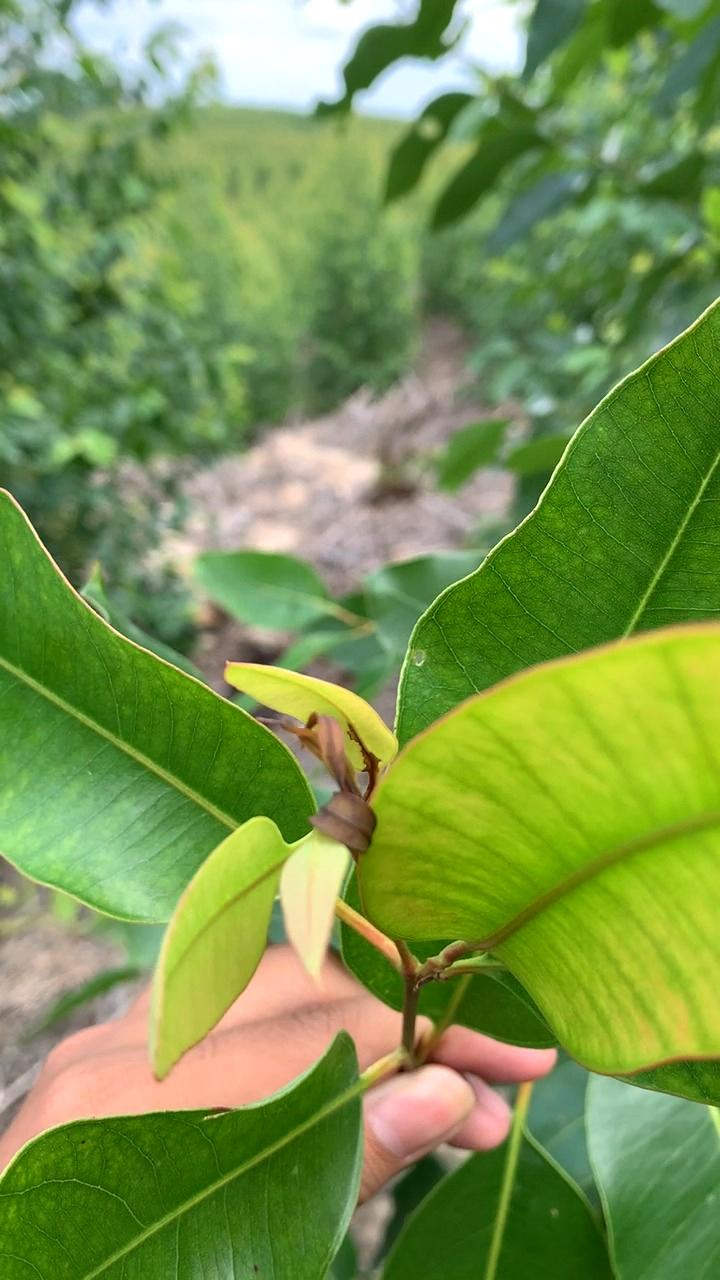Helopeltis-Withered Sprout: (288, 708, 397, 853)
